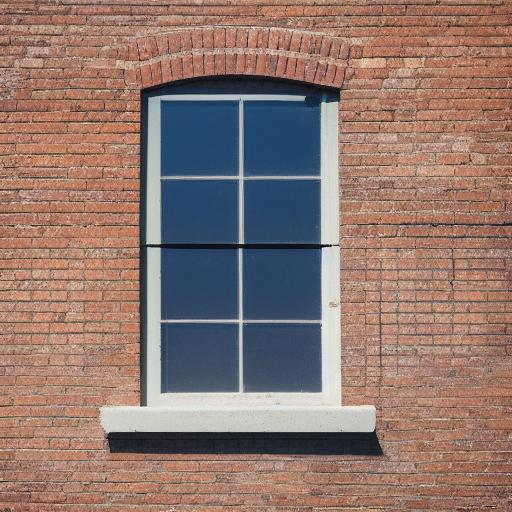Window: (98, 26, 386, 437)
